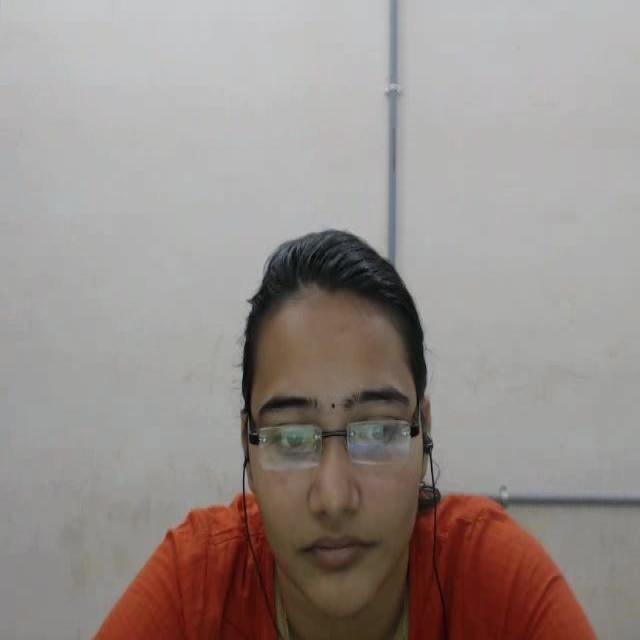Engaged: (220, 227, 448, 632)
